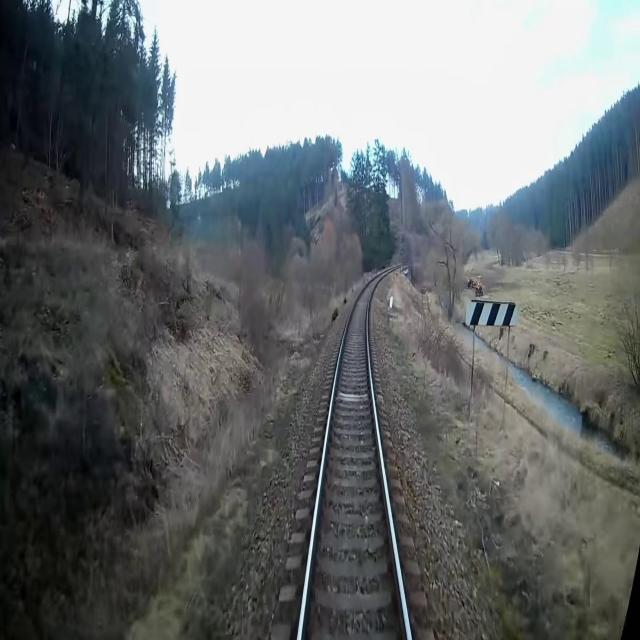rail-track: (302, 271, 406, 639)
